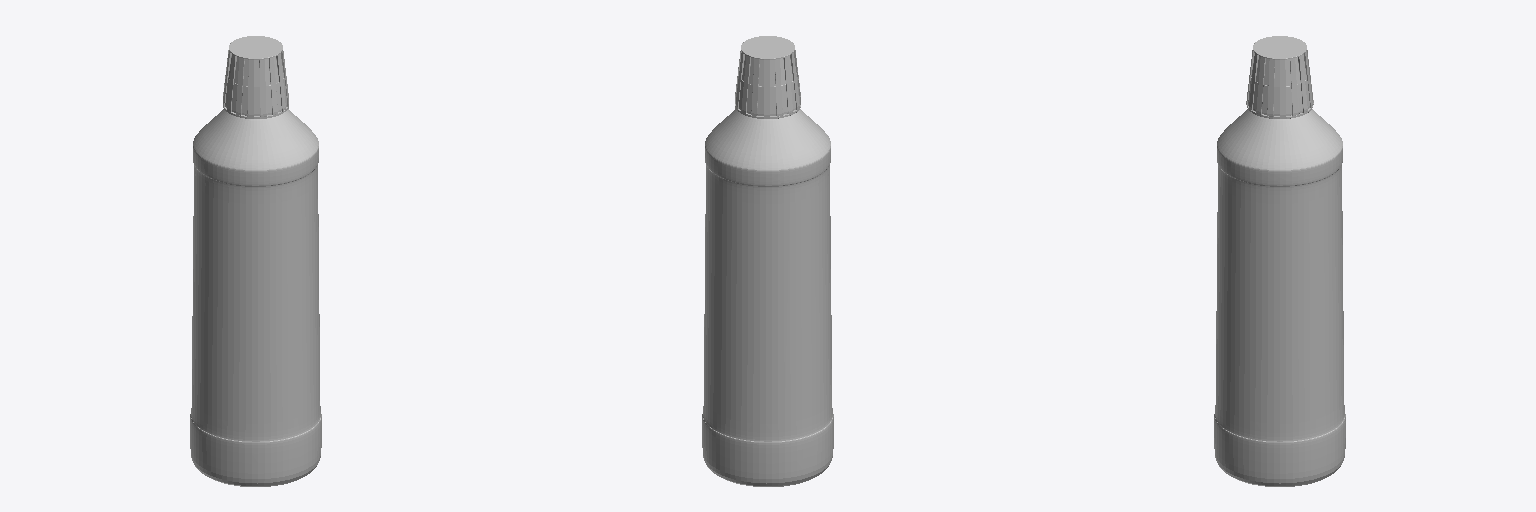
The model's file is Fles lowQ2.obj.
The picture shows the model from 3 angles: view 1: azimuth 30°, elevation 25°; view 2: azimuth 150°, elevation 25°; view 3: azimuth 270°, elevation 25°; orthographic projection.
Visible parts, largest first — view 1: Cube; view 2: Cube; view 3: Cube.
Part boxes in pixels (left/top/right/bottom): Cube: left=190, top=36, right=321, bottom=486; Cube: left=702, top=36, right=833, bottom=486; Cube: left=1214, top=36, right=1345, bottom=486.
Bounding box in the file's own units: 1.21 × 4.24 × 1.21.